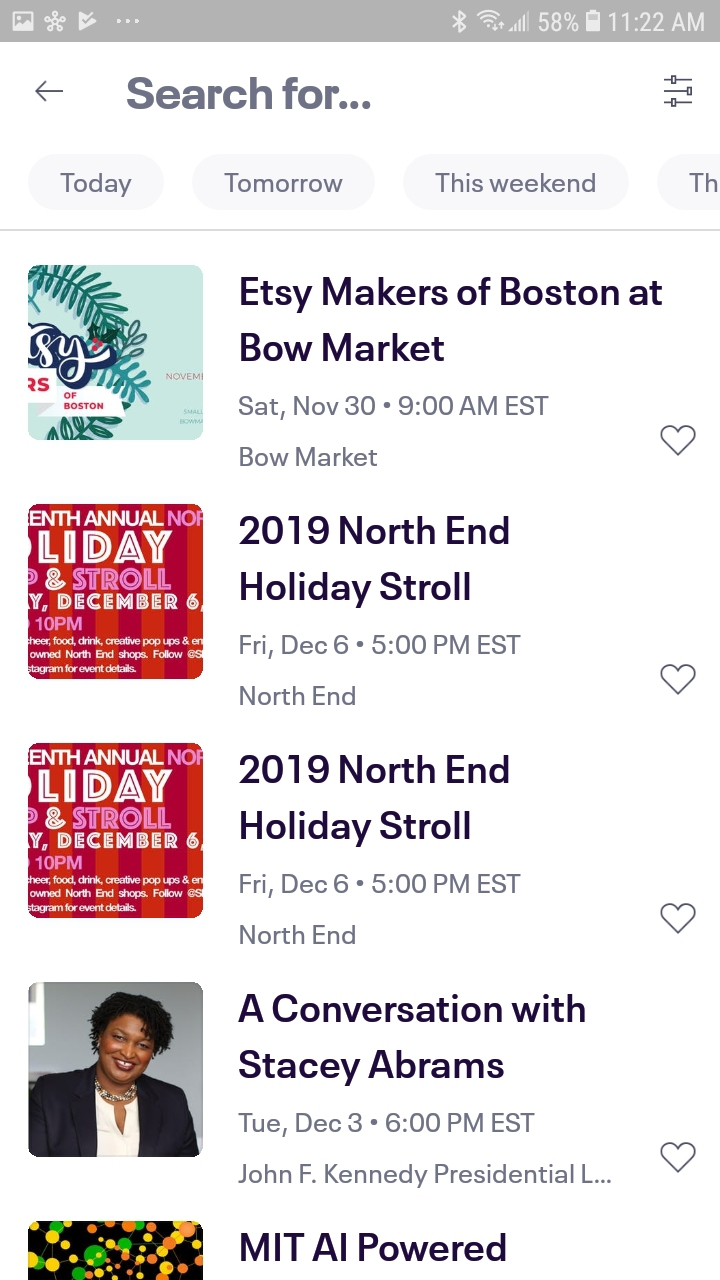Icon: (660, 425, 697, 457), (660, 664, 697, 696), (659, 1141, 696, 1173), (660, 903, 697, 935), (664, 76, 693, 109), (35, 80, 64, 103)
Image: (28, 265, 204, 441), (28, 504, 204, 680), (29, 743, 205, 919), (29, 981, 204, 1157), (28, 1220, 204, 1280)
Text: (241, 277, 663, 363), (238, 994, 586, 1087), (239, 754, 510, 848), (238, 516, 509, 609), (238, 1163, 612, 1189), (127, 77, 371, 111), (239, 395, 550, 421), (240, 1232, 506, 1262), (238, 1112, 535, 1138), (239, 634, 521, 660), (240, 874, 522, 899), (240, 446, 378, 467), (240, 685, 356, 706), (240, 924, 356, 945)
TextButton: (402, 155, 629, 212), (192, 154, 376, 211), (29, 154, 166, 211), (657, 155, 720, 212)
UpperTaskBar: (1, 1, 720, 43)
